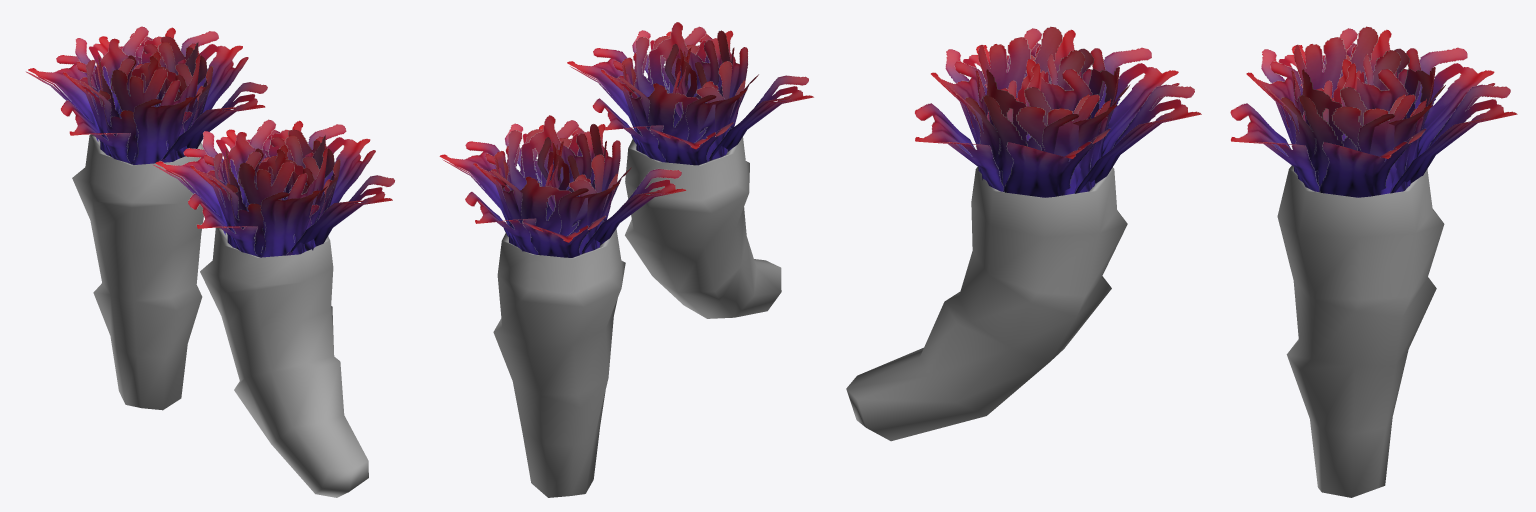
The model's file is corral grass top.fbx.
The picture shows the model from 3 angles, left to right: view 1: azimuth 30°, elevation 25°; view 2: azimuth 150°, elevation 25°; view 3: azimuth 270°, elevation 25°; orthographic projection. The views are drawn at different scales.
Parts seen in each view (by area): view 1: polySurface66, polySurface40; view 2: polySurface40, polySurface66; view 3: polySurface66, polySurface40.
Boxes of the visible parts, x1,y1,x2,y2 form: polySurface66: [152, 119, 394, 497]; polySurface40: [25, 26, 267, 410]; polySurface40: [439, 115, 686, 497]; polySurface66: [567, 22, 813, 318]; polySurface66: [846, 26, 1201, 441]; polySurface40: [1230, 26, 1517, 497].
Bounding box in the file's own units: 96.5 × 151 × 208.
2 materials, 1 textured.
